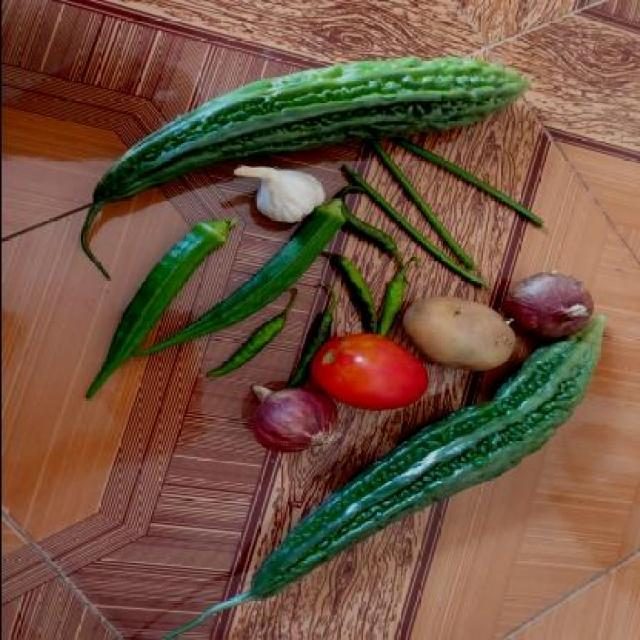Bitter melon: (251, 381, 580, 640), (84, 60, 522, 198)
Garlic: (228, 162, 324, 216)
Green Chili: (201, 306, 297, 386), (372, 266, 410, 337)
Lady finger: (82, 217, 238, 403)
Onion: (246, 383, 339, 448), (506, 274, 594, 340)
Potato: (404, 291, 518, 371)
Tomato: (306, 334, 425, 411)
